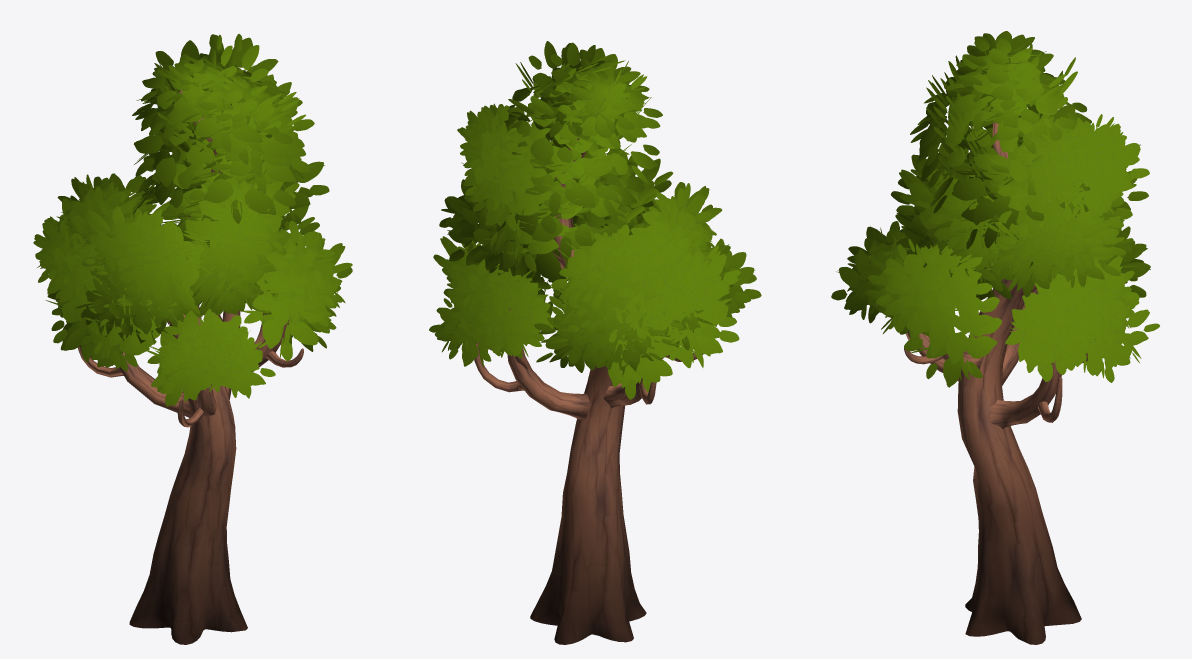
The model's file is oak_2.glb.
3 renders of one model, left to right at view 1: azimuth 30°, elevation 25°; view 2: azimuth 150°, elevation 25°; view 3: azimuth 270°, elevation 25°, orthographic. The views are drawn at different scales.
Parts seen in each view (by area): view 1: CommonTree_2; view 2: CommonTree_2; view 3: CommonTree_2.
Boxes of the visible parts, <box> form: CommonTree_2: <box>33,34,352,644</box>; CommonTree_2: <box>429,41,761,644</box>; CommonTree_2: <box>831,31,1159,644</box>.
Size of the model in its own units: 4.46 by 7.64 by 4.28.
2 materials, 2 textured.
